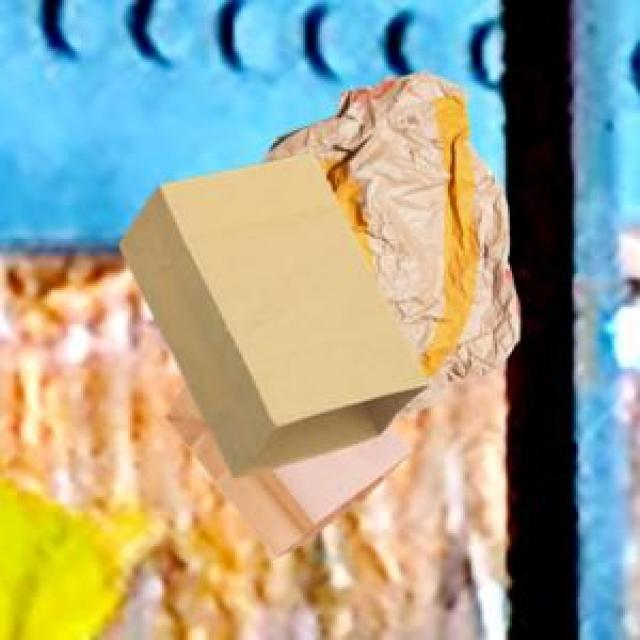Paper -Biodegradable-: (122, 76, 519, 562)
